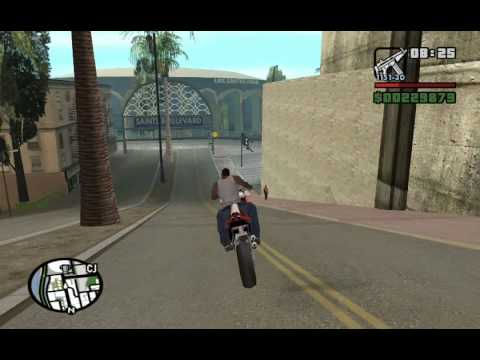bike: (213, 190, 271, 292)
person: (263, 182, 271, 205)
